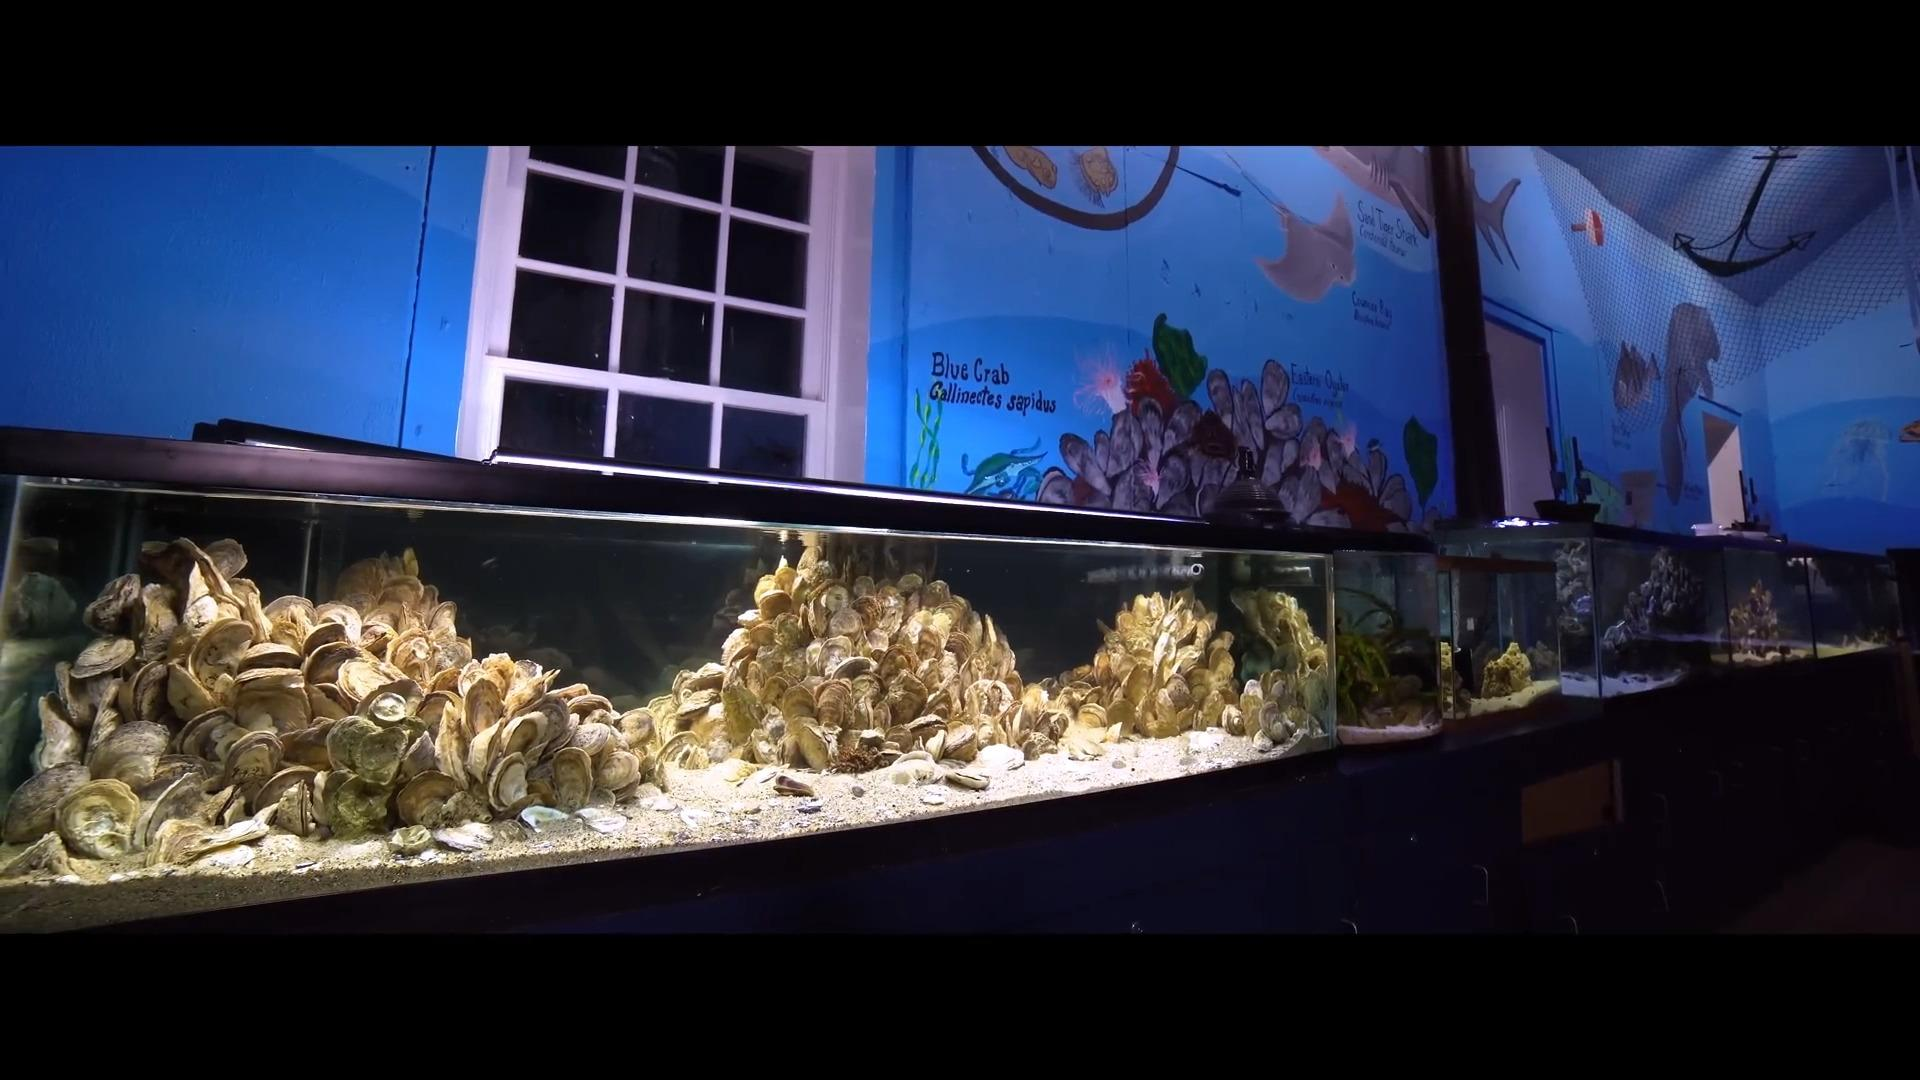Oyster: (55, 781, 142, 860), (4, 762, 88, 843), (135, 770, 216, 845), (228, 665, 314, 733), (327, 716, 407, 786), (88, 721, 167, 791), (3, 570, 80, 640), (324, 774, 396, 837), (190, 618, 257, 684), (34, 687, 86, 770), (80, 572, 145, 637), (510, 692, 572, 753), (396, 770, 462, 825), (0, 831, 70, 881), (225, 731, 282, 791), (137, 582, 183, 654), (335, 653, 404, 702), (165, 662, 218, 725), (82, 688, 123, 766), (549, 748, 593, 810), (721, 680, 765, 741), (1059, 717, 1116, 762), (73, 637, 135, 678), (657, 732, 712, 777), (273, 781, 316, 837), (1229, 587, 1274, 640), (305, 641, 360, 683), (790, 720, 833, 771), (464, 679, 504, 735), (200, 537, 248, 583), (491, 753, 526, 811), (812, 679, 853, 729), (431, 822, 495, 853), (236, 642, 301, 673), (617, 705, 661, 750), (887, 750, 944, 785), (1025, 707, 1068, 750), (939, 723, 981, 765), (595, 752, 641, 790), (816, 636, 855, 680), (1122, 662, 1155, 712), (575, 806, 626, 835), (368, 691, 409, 727), (199, 845, 256, 870), (1117, 615, 1153, 654), (570, 723, 612, 756), (906, 713, 948, 746), (518, 803, 571, 829), (975, 744, 1025, 771), (389, 824, 434, 855), (524, 649, 571, 675), (782, 686, 818, 720), (828, 608, 862, 644), (736, 764, 782, 790), (1162, 673, 1193, 711), (1259, 703, 1288, 744), (1021, 683, 1051, 721), (1106, 699, 1137, 735), (773, 773, 818, 796), (676, 690, 719, 715), (1266, 671, 1294, 708), (716, 758, 756, 783), (852, 596, 881, 629), (758, 591, 793, 618), (831, 655, 872, 678), (1390, 674, 1423, 702), (709, 608, 741, 636), (1393, 702, 1425, 728), (944, 770, 988, 790), (1362, 704, 1394, 731), (1209, 647, 1234, 680), (638, 793, 679, 812), (1241, 676, 1265, 708), (29, 737, 49, 774), (675, 657, 712, 676), (1303, 646, 1328, 675), (1079, 703, 1106, 728), (856, 727, 886, 749), (771, 567, 796, 593), (1184, 731, 1212, 754), (676, 807, 704, 831), (1221, 705, 1244, 735), (402, 547, 421, 580), (1279, 721, 1304, 745), (1251, 728, 1275, 752), (1422, 704, 1444, 729), (919, 789, 948, 807), (1035, 675, 1059, 696), (796, 799, 823, 814), (293, 858, 319, 873), (849, 783, 865, 796)
